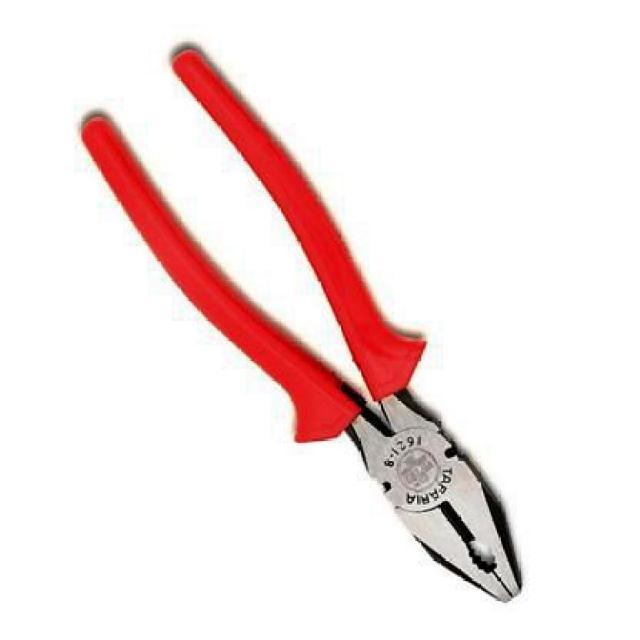pliers: (76, 45, 524, 604)
